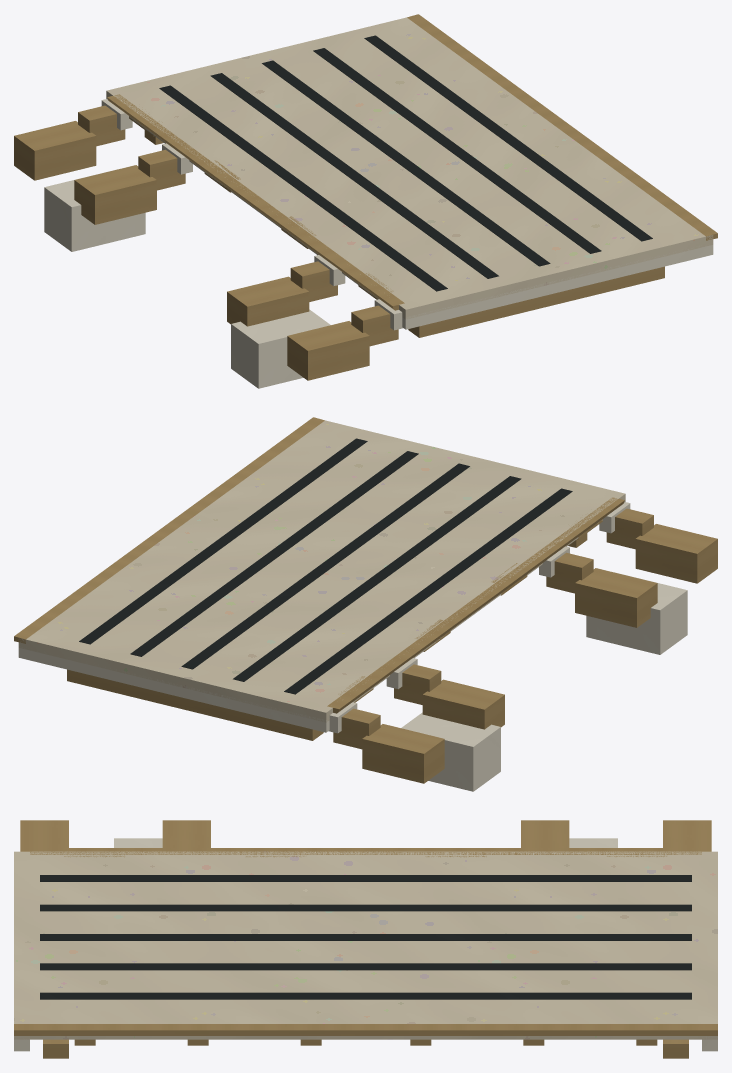
The model's file is ForemidBridge.glb.
3 views of the same model, one above another, from view 1: azimuth 30°, elevation 25°; view 2: azimuth 150°, elevation 25°; view 3: azimuth 270°, elevation 25° (orthographic). The views are drawn at different scales.
Visible parts, largest first — view 1: BRIDGE_MainDeck, BRIDGE_FixedHingePin, BRIDGE_HingeDriveHousing_0.68, BRIDGE_CabinReceivingTongue_20mm, BRIDGE_FixedAnchor_3, BRIDGE_FixedAnchor_0, BRIDGE_HingeDriveHousing_-0.68, BRIDGE_FixedAnchor_1, BRIDGE_ProfiledEdge_1.065, BRIDGE_RecessedGrip_2, BRIDGE_RecessedGrip_0, BRIDGE_RecessedGrip_1 (+8 smaller); view 2: BRIDGE_MainDeck, BRIDGE_FixedHingePin, BRIDGE_HingeDriveHousing_-0.68, BRIDGE_CabinReceivingTongue_20mm, BRIDGE_FixedAnchor_0, BRIDGE_FixedAnchor_3, BRIDGE_HingeDriveHousing_0.68, BRIDGE_FixedAnchor_2, BRIDGE_ProfiledEdge_-1.065, BRIDGE_RecessedGrip_2, BRIDGE_RecessedGrip_0, BRIDGE_RecessedGrip_1 (+8 smaller); view 3: BRIDGE_MainDeck, BRIDGE_CabinReceivingTongue_20mm, BRIDGE_RecessedGrip_1, BRIDGE_RecessedGrip_3, BRIDGE_RecessedGrip_4, BRIDGE_FixedHingePin, BRIDGE_RecessedGrip_0, BRIDGE_RecessedGrip_2, BRIDGE_FixedAnchor_0, BRIDGE_FixedAnchor_3, BRIDGE_FixedAnchor_1, BRIDGE_FixedAnchor_2 (+4 smaller).
Boxes of the visible parts, x1,y1,x2,y2 form: BRIDGE_MainDeck: (106,17,713,319); BRIDGE_FixedHingePin: (107,94,404,310); BRIDGE_HingeDriveHousing_0.68: (231,309,330,388); BRIDGE_CabinReceivingTongue_20mm: (407,14,717,240); BRIDGE_FixedAnchor_3: (287,321,369,380); BRIDGE_FixedAnchor_0: (14,121,96,180); BRIDGE_HingeDriveHousing_-0.68: (44,169,145,251); BRIDGE_FixedAnchor_1: (74,165,156,224); BRIDGE_ProfiledEdge_1.065: (402,245,713,329); BRIDGE_RecessedGrip_2: (262,60,550,266); BRIDGE_RecessedGrip_0: (159,85,447,291); BRIDGE_RecessedGrip_1: (210,73,498,278); BRIDGE_MainDeck: (18,420,625,722); BRIDGE_FixedHingePin: (327,497,624,713); BRIDGE_HingeDriveHousing_-0.68: (401,712,500,791); BRIDGE_CabinReceivingTongue_20mm: (14,417,324,643); BRIDGE_FixedAnchor_0: (362,724,444,783); BRIDGE_FixedAnchor_3: (635,524,717,583); BRIDGE_HingeDriveHousing_0.68: (586,572,687,654); BRIDGE_FixedAnchor_2: (575,568,657,627); BRIDGE_ProfiledEdge_-1.065: (18,647,329,732); BRIDGE_RecessedGrip_2: (181,463,469,669); BRIDGE_RecessedGrip_0: (284,488,572,694); BRIDGE_RecessedGrip_1: (233,476,521,681); BRIDGE_MainDeck: (14,851,717,1039); BRIDGE_CabinReceivingTongue_20mm: (14,1024,717,1035); BRIDGE_RecessedGrip_1: (40,904,691,911); BRIDGE_RecessedGrip_3: (40,963,691,970); BRIDGE_RecessedGrip_4: (40,992,691,999); BRIDGE_FixedHingePin: (30,848,701,854); BRIDGE_RecessedGrip_0: (40,875,691,881); BRIDGE_RecessedGrip_2: (40,934,691,940); BRIDGE_FixedAnchor_0: (663,820,711,851); BRIDGE_FixedAnchor_3: (20,820,68,851); BRIDGE_FixedAnchor_1: (521,820,569,847); BRIDGE_FixedAnchor_2: (162,820,210,847).
Bounding box in the file's own units: 1.75 × 0.3415 × 2.18.
4 materials, 4 textured.
